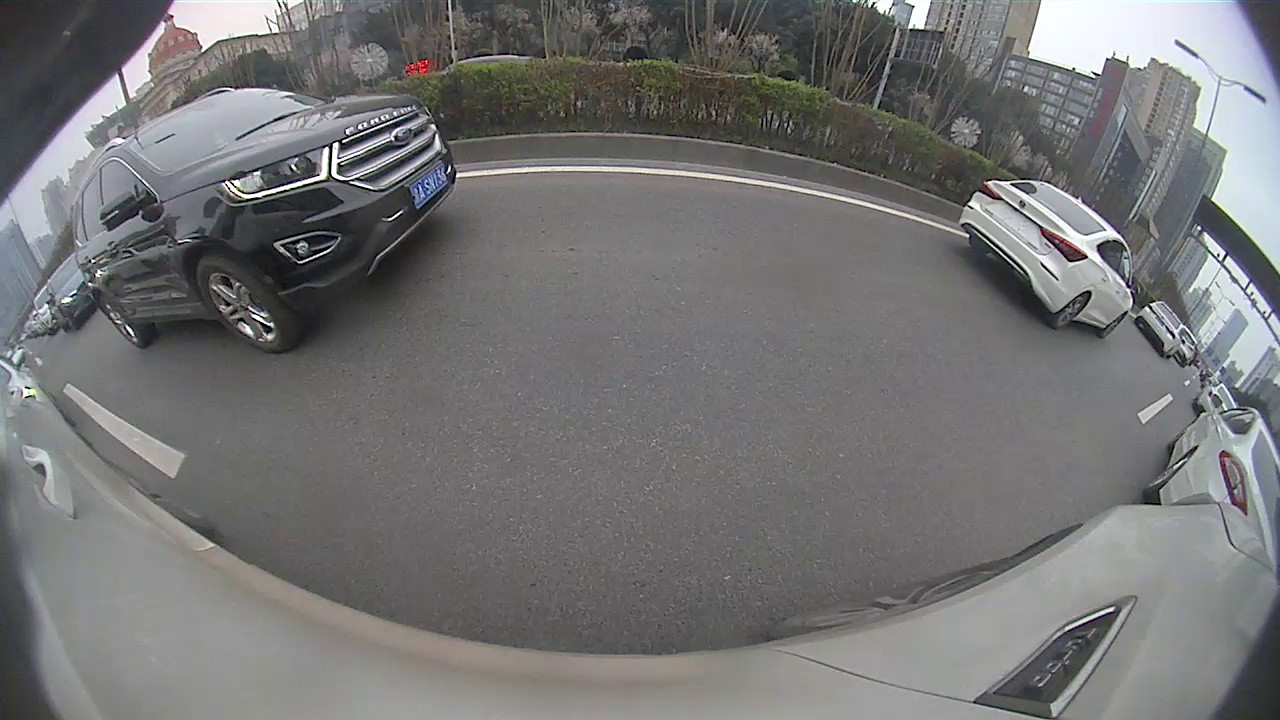car: (69, 87, 458, 353), (957, 180, 1146, 339), (1139, 391, 1279, 575), (1133, 300, 1183, 361)
front: (196, 257, 291, 350)
rear: (94, 297, 149, 346), (1055, 295, 1090, 330)
